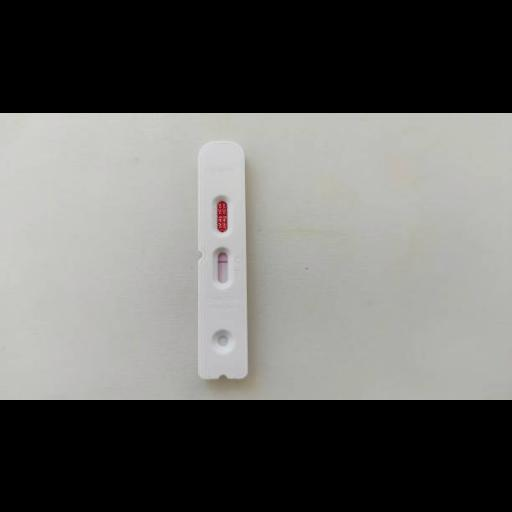Neg: (196, 140, 248, 378)
